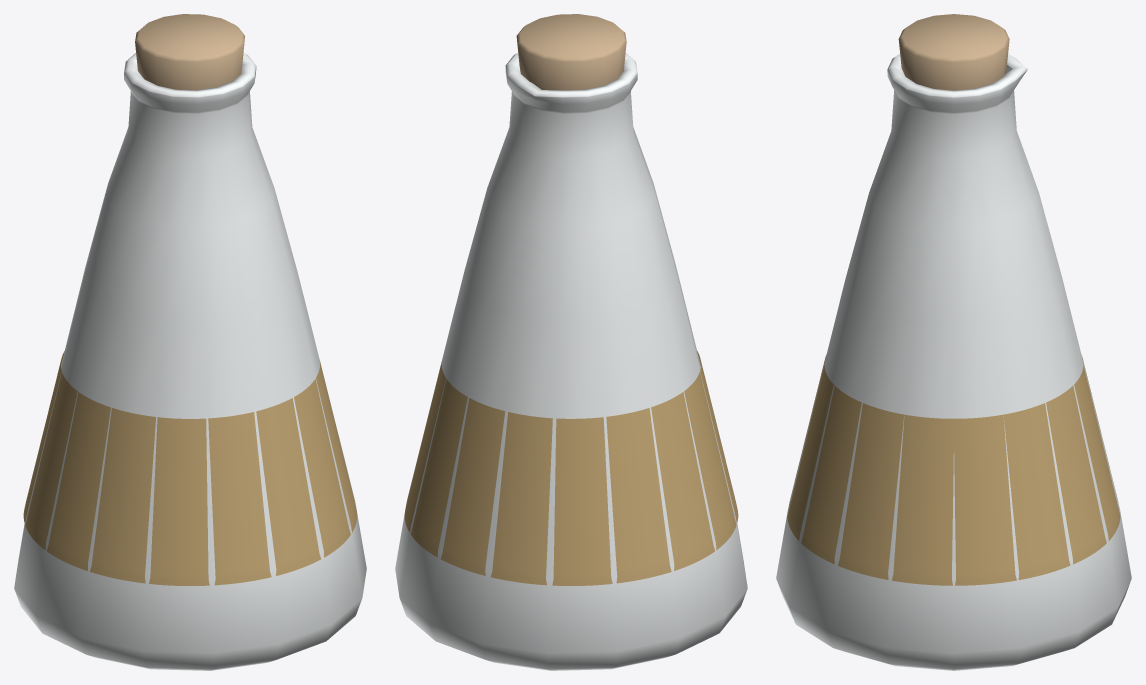
Rendered from v2_erlenmeyer_lab_minimal.glb.
3 renders of one model, left to right at view 1: azimuth 30°, elevation 25°; view 2: azimuth 150°, elevation 25°; view 3: azimuth 270°, elevation 25°, orthographic.
Visible parts, largest first — view 1: Glass, Label_band, Cap; view 2: Glass, Label_band, Cap; view 3: Glass, Label_band, Cap.
Boxes of the visible parts, box(x1,y1,x2,y2) form: Glass: box(14, 52, 366, 670); Label_band: box(23, 351, 357, 585); Cap: box(135, 14, 244, 90); Glass: box(395, 53, 747, 670); Label_band: box(404, 351, 738, 585); Cap: box(516, 14, 626, 90); Glass: box(776, 54, 1131, 670); Label_band: box(787, 354, 1120, 585); Cap: box(898, 14, 1009, 90).
Bounding box in the file's own units: 0.1064 × 0.1884 × 0.1066.
